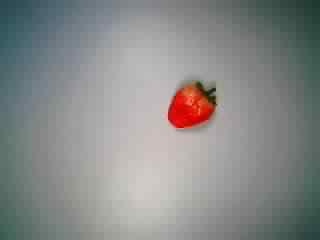strawberry: (164, 69, 224, 137)
